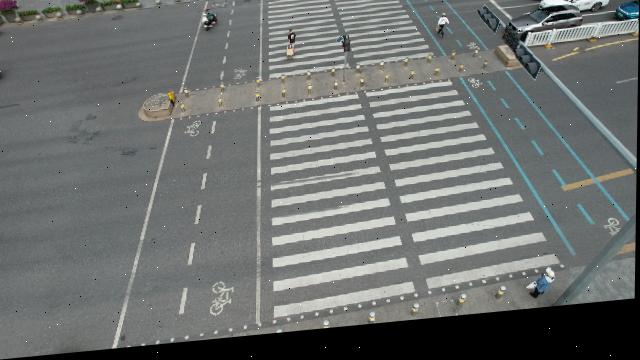non-motor-vehicle: (201, 11, 220, 35), (119, 0, 143, 3), (173, 0, 192, 2), (151, 0, 172, 1)
person: (532, 277, 556, 308), (437, 20, 449, 48), (286, 32, 297, 53)
